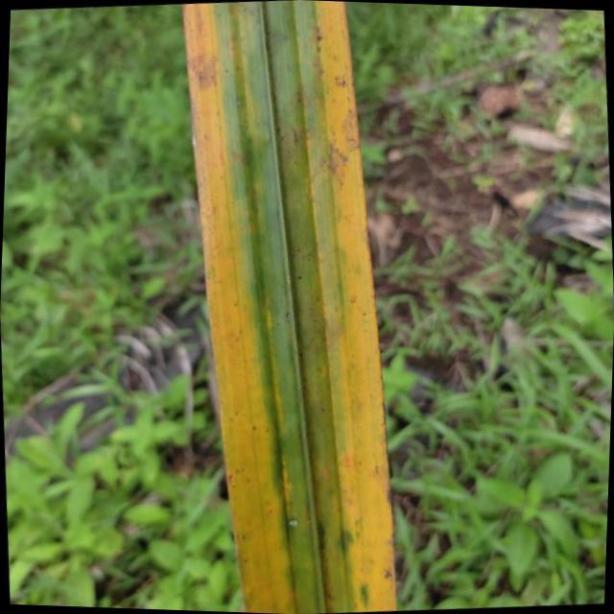Megnesium: (181, 0, 398, 614)
